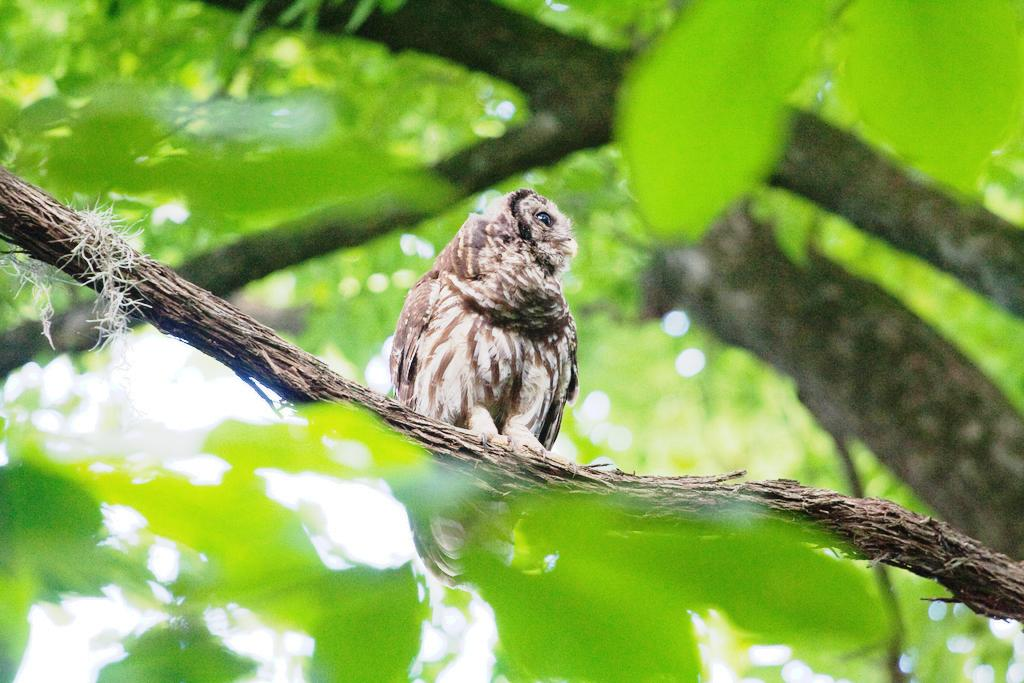Owl: (386, 192, 586, 594)
